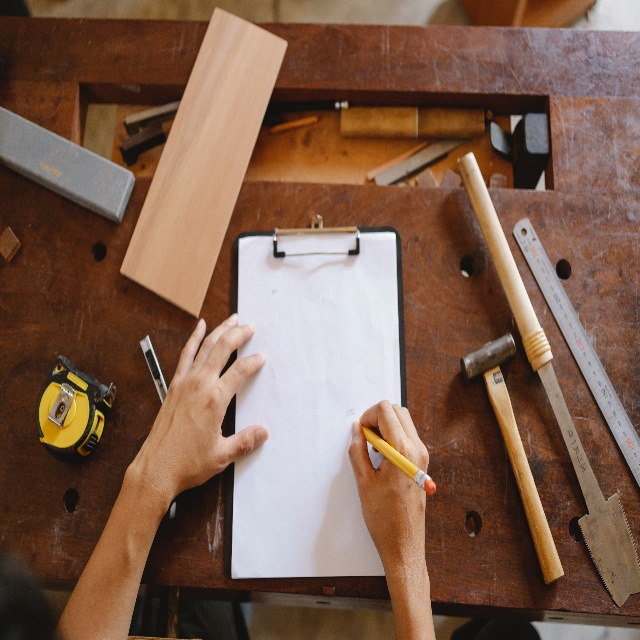Sin_guantes: (142, 312, 269, 506), (348, 398, 429, 587)
